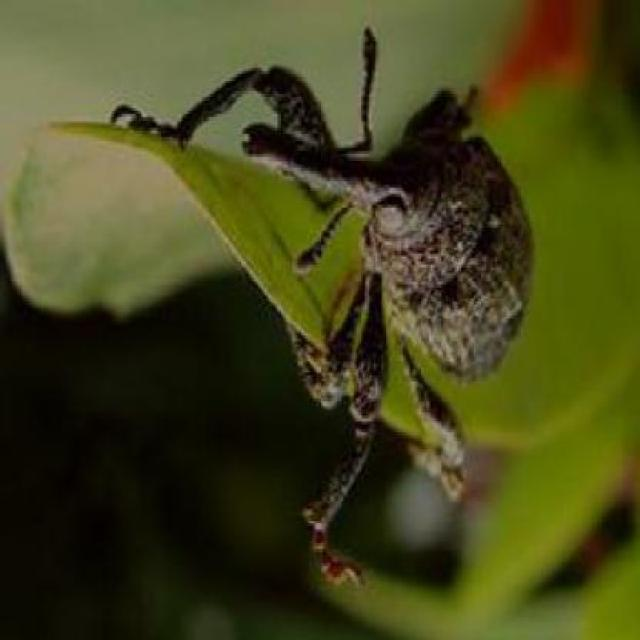rice-bug: (241, 62, 539, 444)
